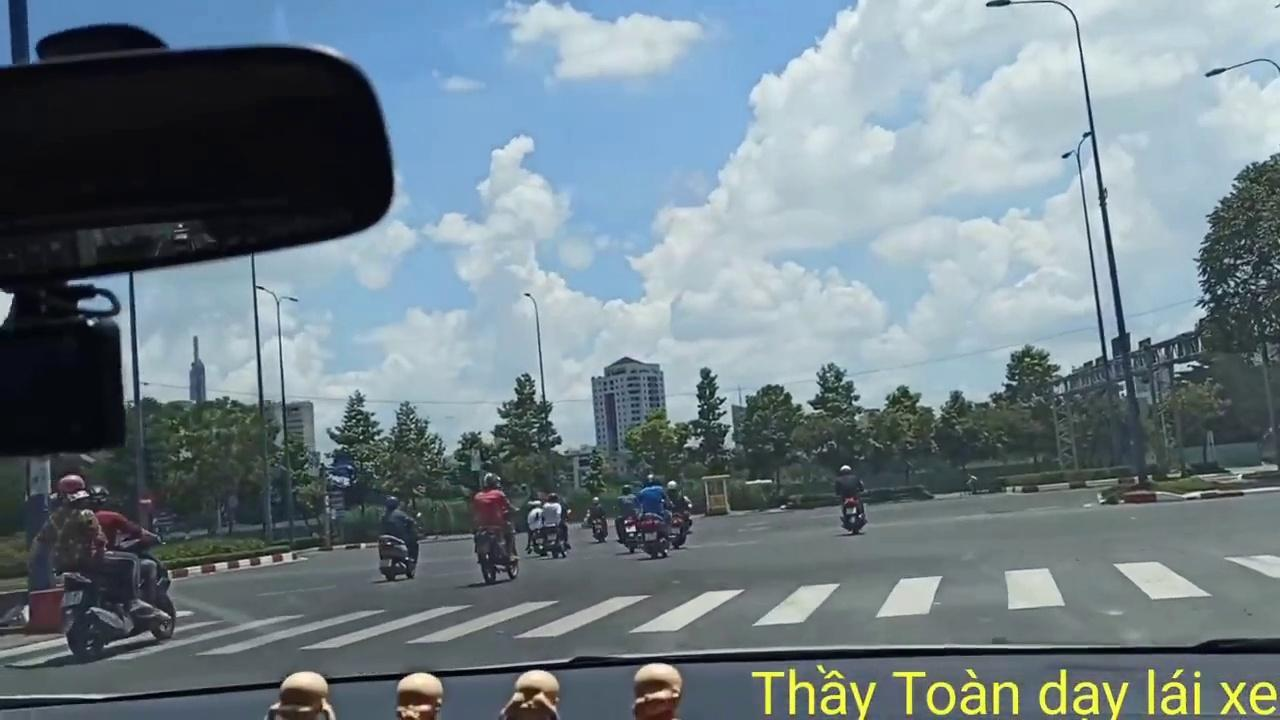Cấm đi ngược chiều: (135, 490, 158, 516)
